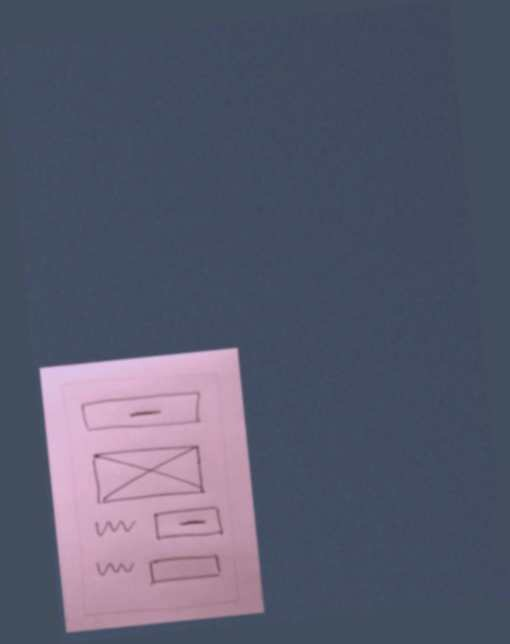button: (79, 386, 205, 439), (150, 503, 225, 543)
image: (89, 440, 208, 507)
text: (91, 513, 140, 540), (94, 557, 137, 579)
text_input: (148, 550, 224, 588)
